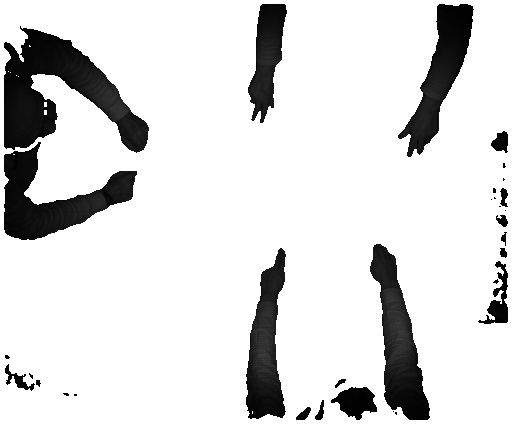fist: (104, 168, 143, 208), (117, 114, 151, 158)
hand: (392, 111, 439, 159), (248, 75, 279, 127), (256, 248, 287, 298), (368, 240, 399, 285)
